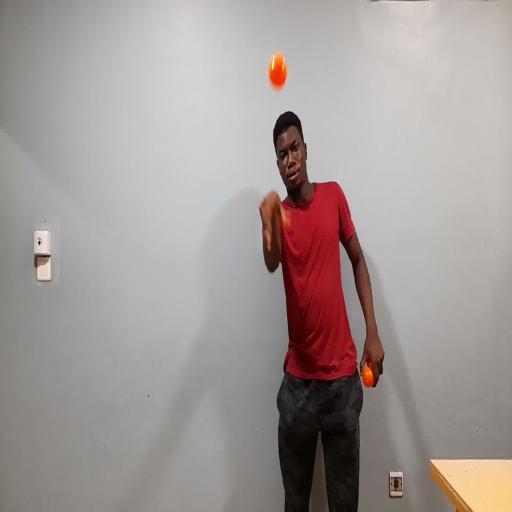plastic-ball: (264, 49, 294, 96)
